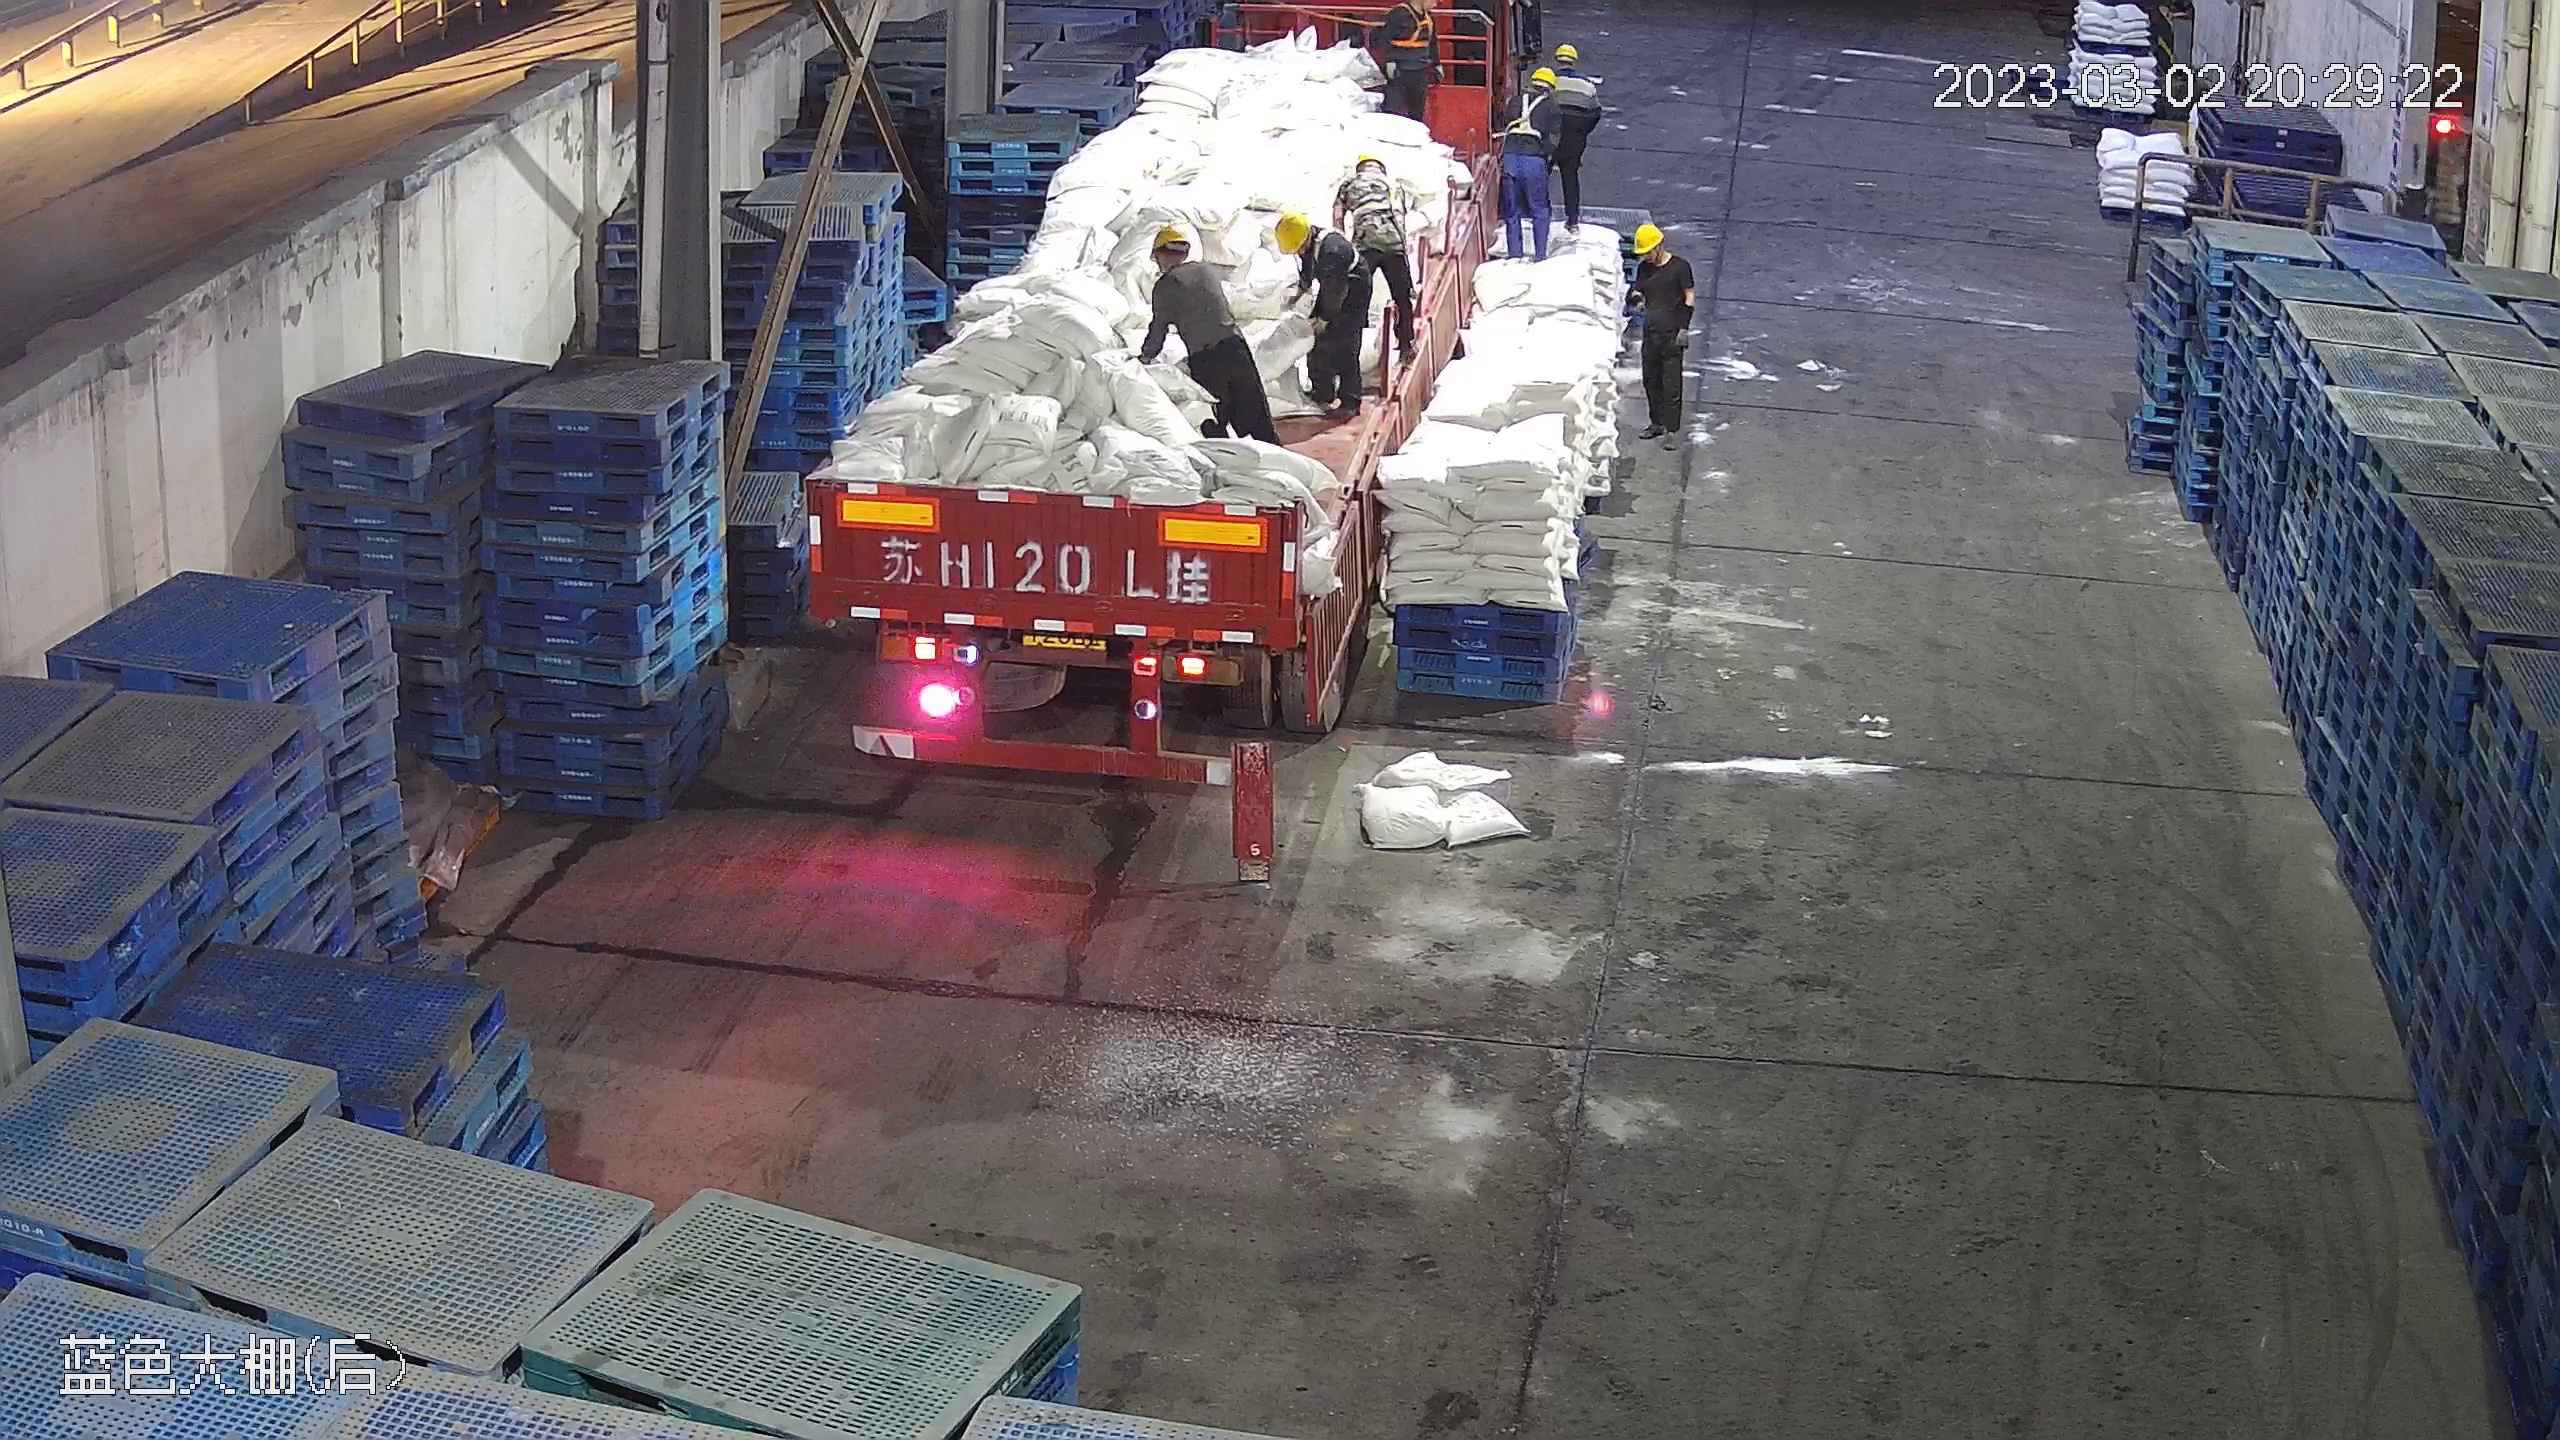belt: (1275, 208, 1356, 282), (1355, 170, 1409, 217), (1496, 83, 1542, 136), (1390, 5, 1435, 50)
head: (1144, 222, 1227, 307), (1270, 208, 1356, 280), (1335, 148, 1408, 214), (1626, 223, 1692, 295), (1507, 58, 1564, 125), (1548, 52, 1596, 114)
helmet: (1271, 208, 1312, 252), (1147, 221, 1191, 252), (1631, 222, 1666, 251), (1529, 65, 1559, 87), (1353, 151, 1387, 169), (1557, 42, 1584, 61)
people: (1132, 219, 1284, 452), (1268, 201, 1379, 418), (1324, 141, 1418, 369), (1623, 219, 1699, 446), (1496, 60, 1563, 265), (1543, 47, 1600, 248)
truck: (802, 2, 1414, 774)
